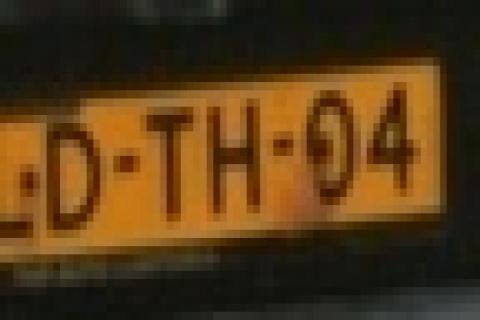LicensePlate: (1, 37, 453, 279)
